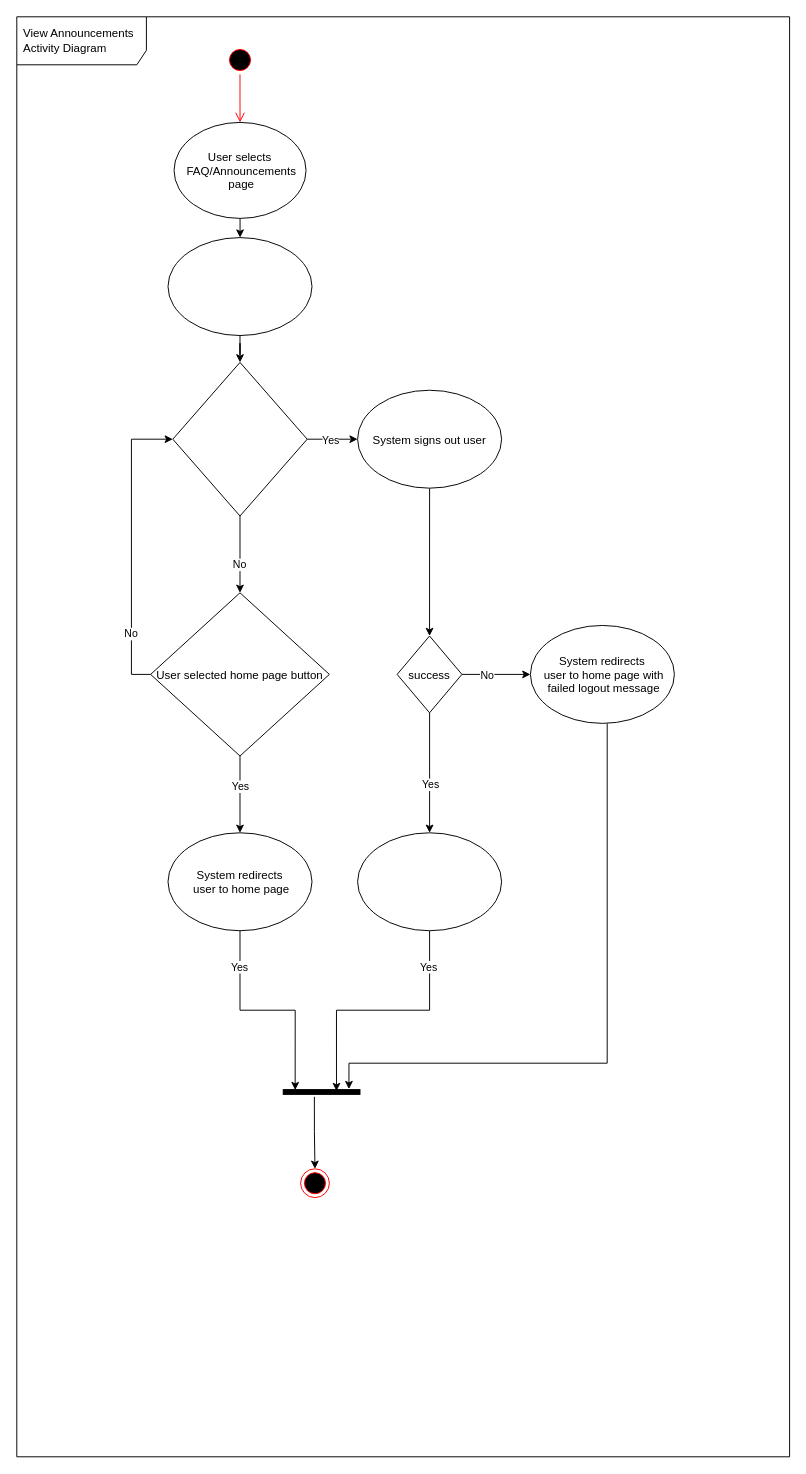
This 806x1474 diagram has some shape labels left out. The shapes that lost their labels are listed below. From the top down, each one's centre as x and y in pixels, then its label:
the point at 239,286: Wait for input
the point at 239,438: User selected sign out
the point at 429,881: System redirects user to home page with success logout message
